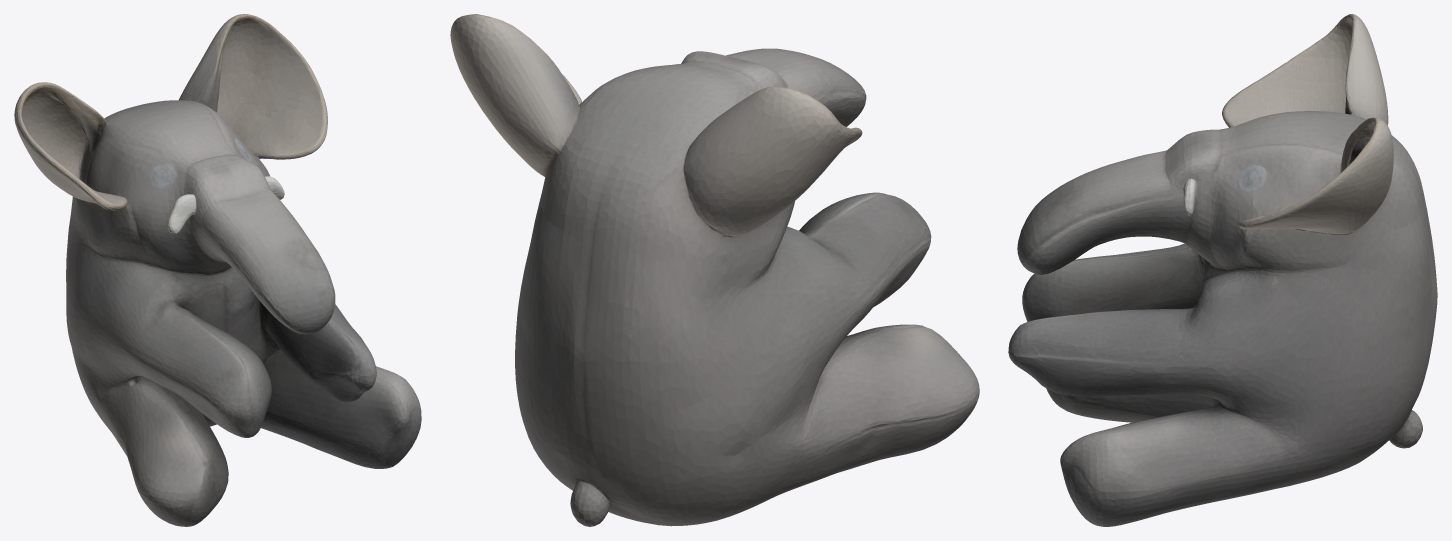
3 views of the same model, side by side, from view 1: azimuth 30°, elevation 25°; view 2: azimuth 150°, elevation 25°; view 3: azimuth 270°, elevation 25° (orthographic). The views are drawn at different scales.
Visible parts, largest first — view 1: world; view 2: world; view 3: world.
Boxes of the visible parts, bbox=[...] form: world: bbox=[14, 14, 421, 526]; world: bbox=[450, 14, 979, 526]; world: bbox=[1008, 14, 1437, 526].
Size of the model in its own units: 0.1324 by 0.1561 by 0.1536.
Materials: 1 (1 with a texture image).
